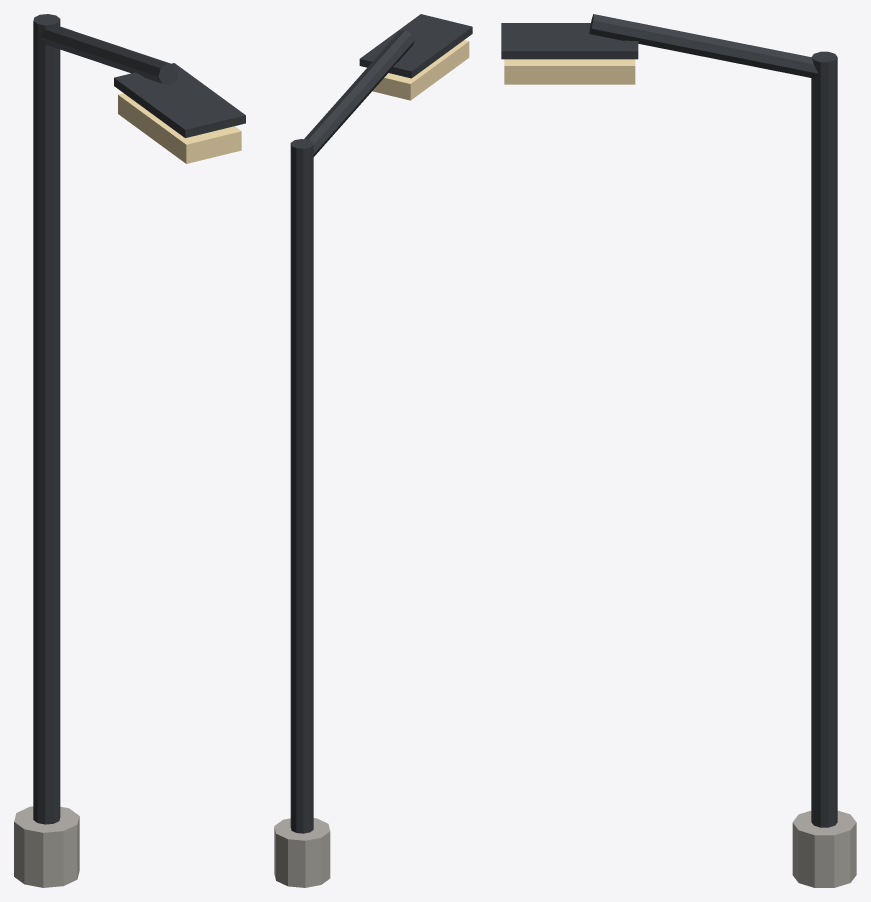
Rendered from PRP_StreetLamp.fbx.
The picture shows the model from 3 angles, left to right: view 1: azimuth 30°, elevation 25°; view 2: azimuth 150°, elevation 25°; view 3: azimuth 270°, elevation 25°; orthographic projection. The views are drawn at different scales.
Parts seen in each view (by area): view 1: PRP_StreetLamp__BODY; view 2: PRP_StreetLamp__BODY; view 3: PRP_StreetLamp__BODY.
Part boxes in pixels (left/top/right/bottom): PRP_StreetLamp__BODY: left=14, top=14, right=245, bottom=887; PRP_StreetLamp__BODY: left=274, top=14, right=472, bottom=887; PRP_StreetLamp__BODY: left=501, top=14, right=856, bottom=887.
Size of the model in its own units: 0.46 by 6.52 by 2.44.
